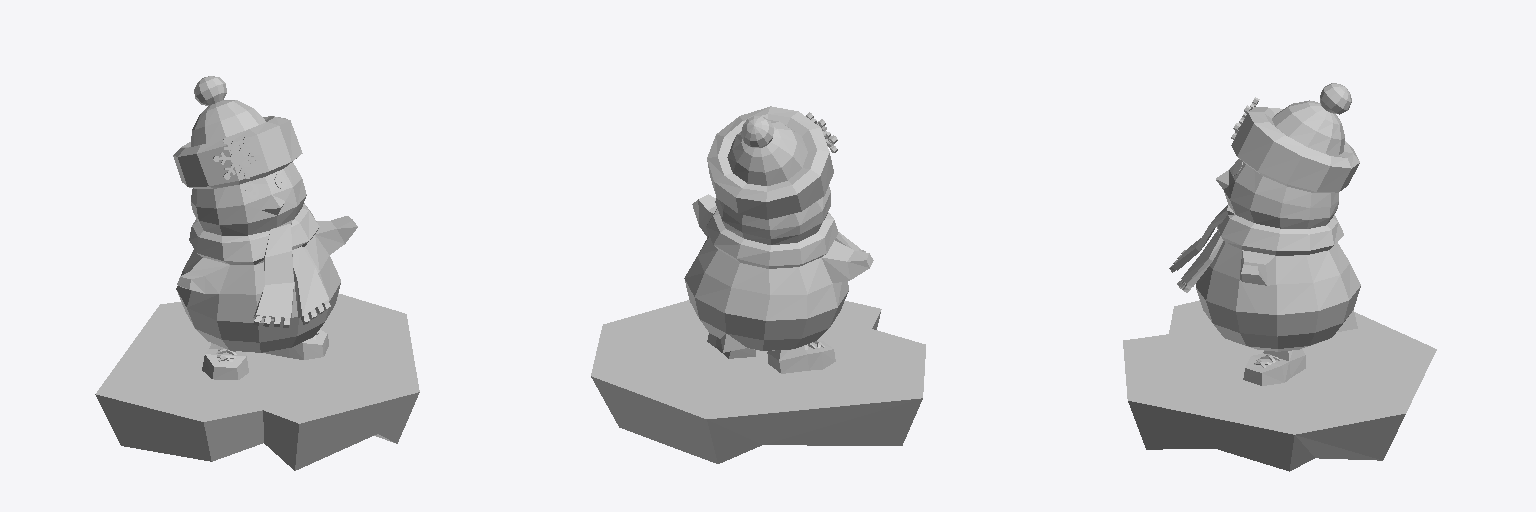
File: snowman.obj
3 renders of one model, left to right at view 1: azimuth 30°, elevation 25°; view 2: azimuth 150°, elevation 25°; view 3: azimuth 270°, elevation 25°, orthographic.
Visible parts, largest first — view 1: group[number redacted], group[number redacted], group[number redacted], group[number redacted], group[number redacted]; view 2: group[number redacted], group[number redacted], group[number redacted]; view 3: group[number redacted], group[number redacted], group[number redacted].
Boxes of the visible parts, x1,y1,x2,y2 form: group[number redacted]: [95, 293, 419, 470]; group[number redacted]: [173, 76, 357, 352]; group[number redacted]: [202, 343, 248, 379]; group[number redacted]: [263, 329, 328, 359]; group[number redacted]: [213, 137, 260, 179]; group[number redacted]: [591, 300, 925, 463]; group[number redacted]: [684, 106, 873, 352]; group[number redacted]: [767, 340, 835, 373]; group[number redacted]: [1123, 300, 1436, 471]; group[number redacted]: [1169, 83, 1360, 351]; group[number redacted]: [1243, 348, 1305, 385].
Size of the model in its own units: 1.75 by 1.72 by 1.51.